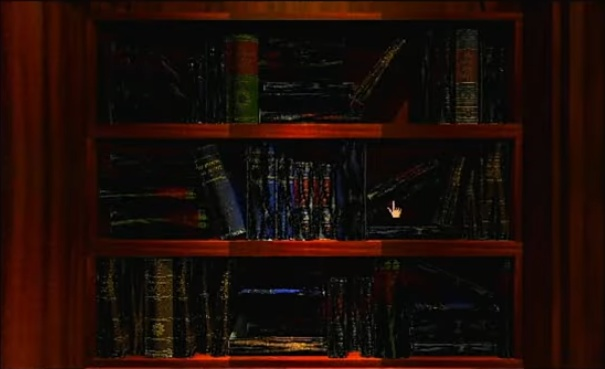Pointer: (384, 198, 406, 219)
